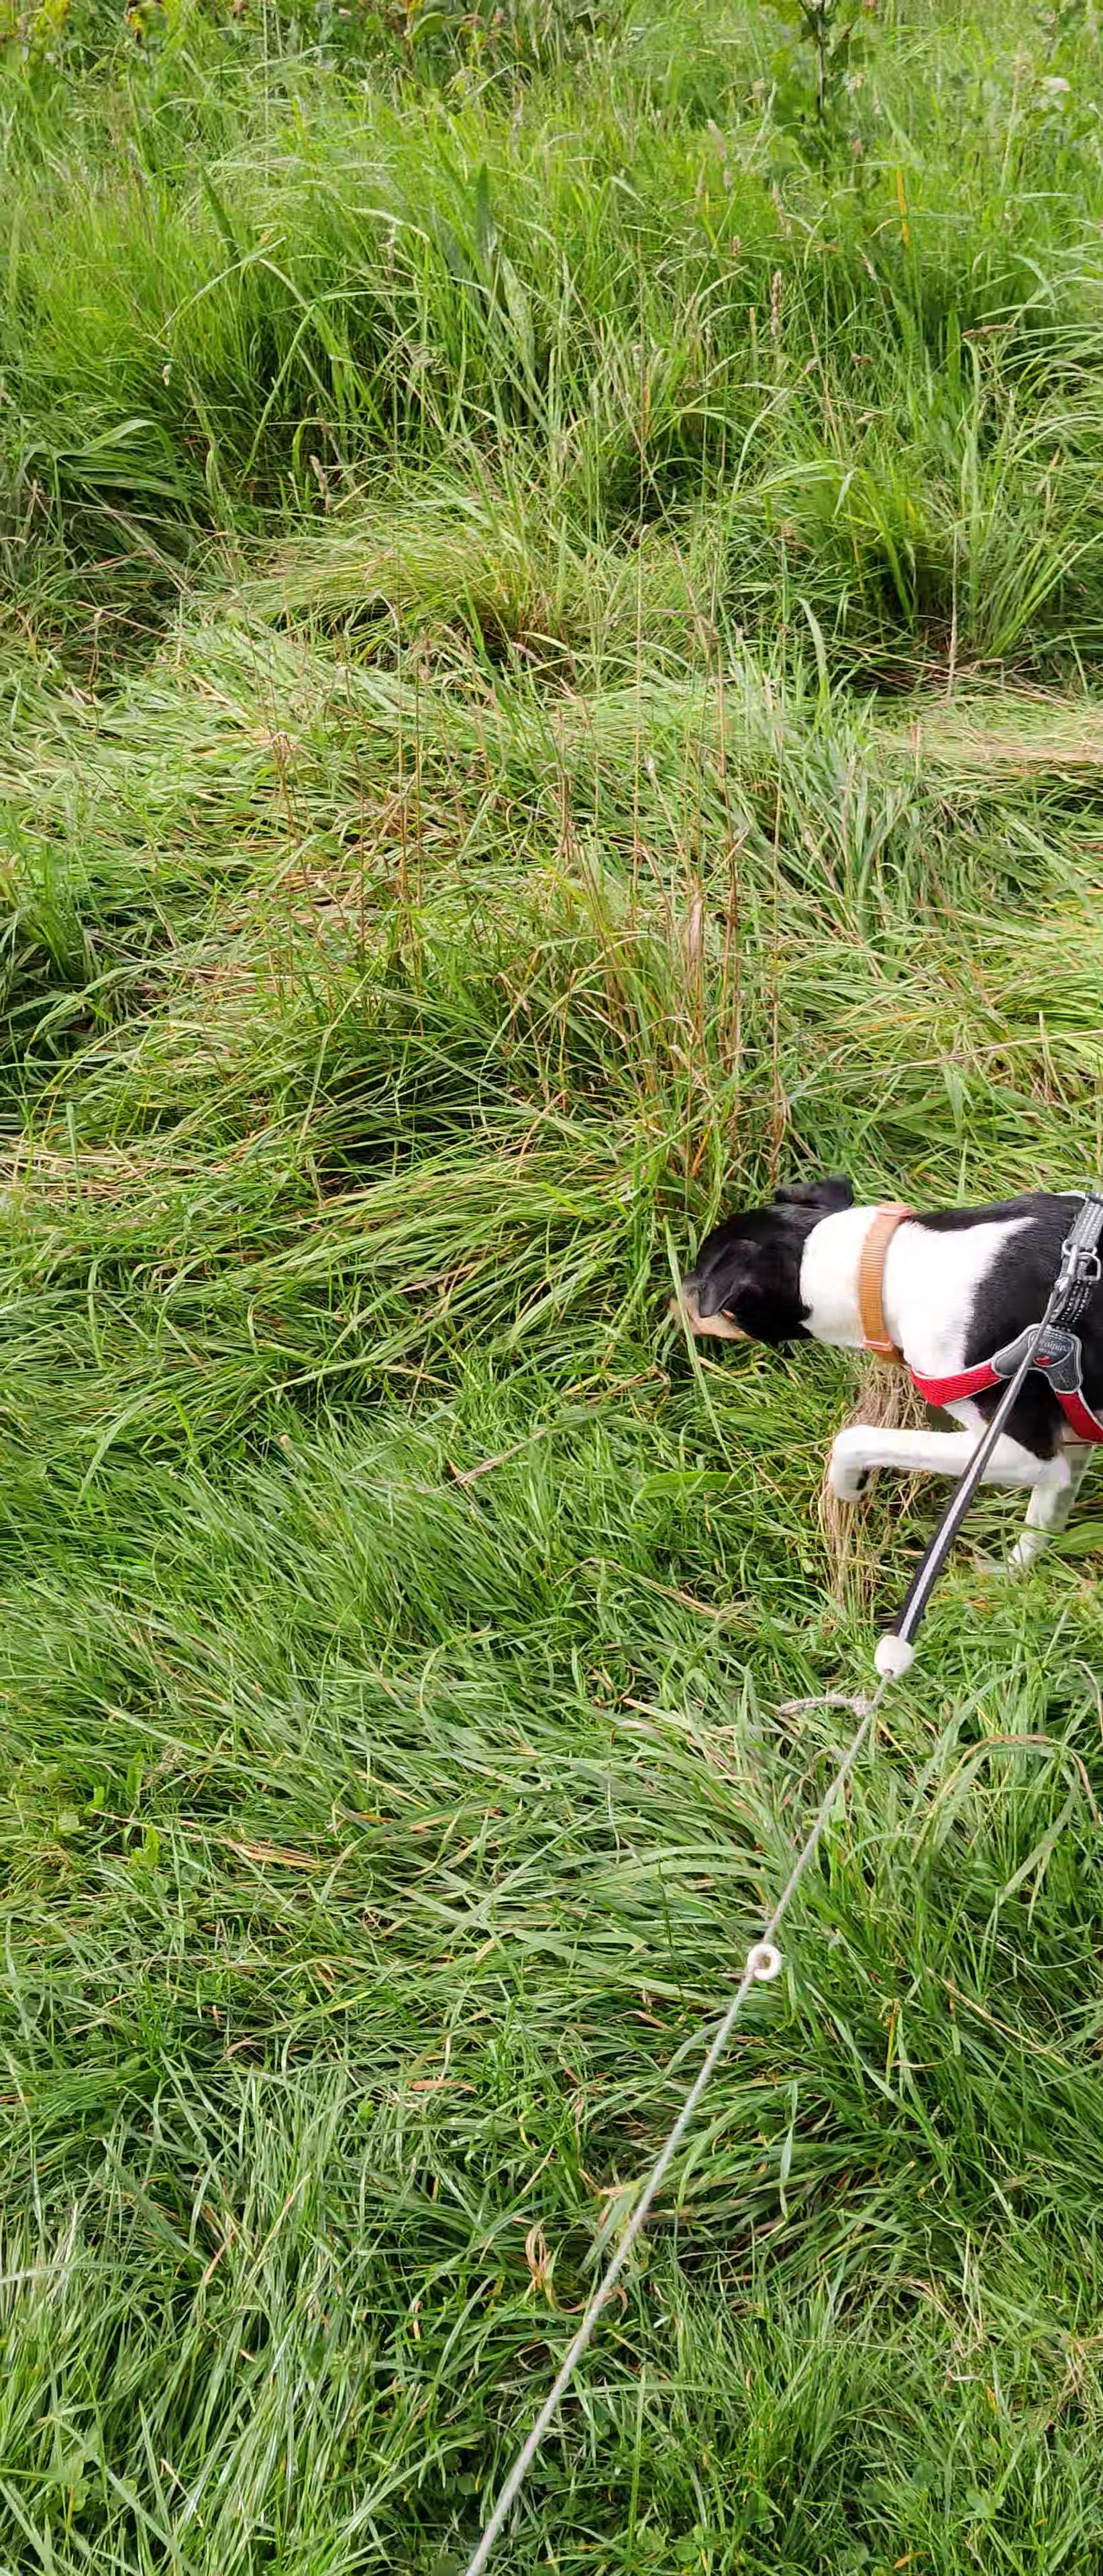Dog: (639, 1152, 1103, 1595)
